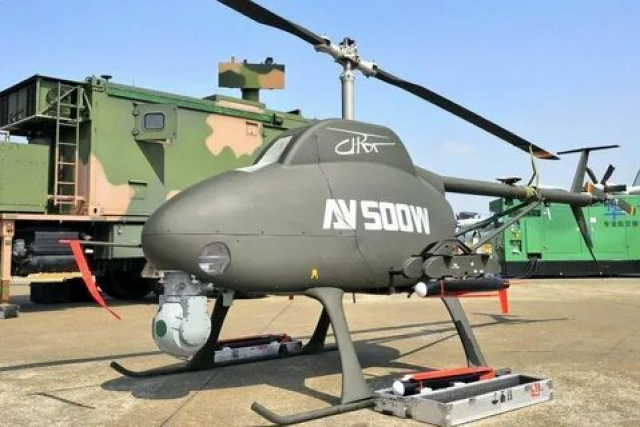military drone: (57, 0, 637, 424)
